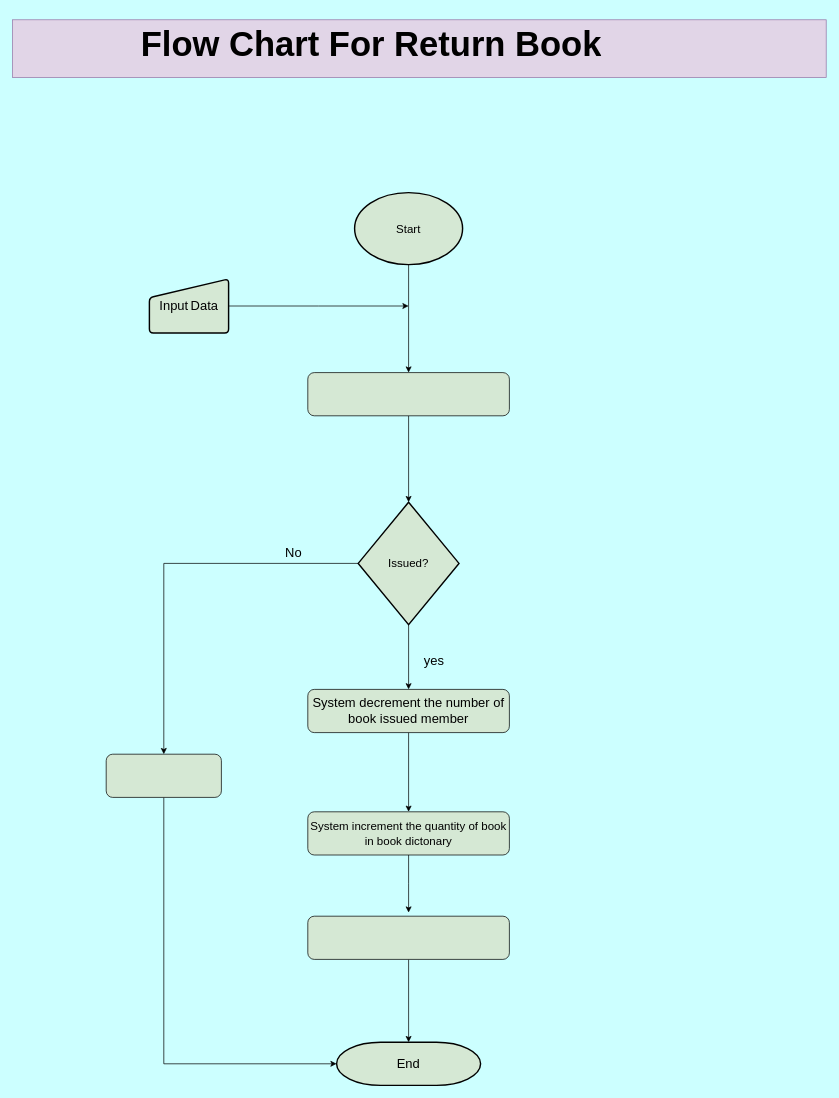
Image size: 839x1098. Some labels were removed from this diagram. The shapes that lost their labels are listed below. From the top down, each one's box as (x1, y1, x2, y2) in pixels, then its label:
(307, 372, 509, 416): Check Book Issued By The Member
(105, 753, 221, 797): Show error
(307, 915, 509, 959): Book returned
